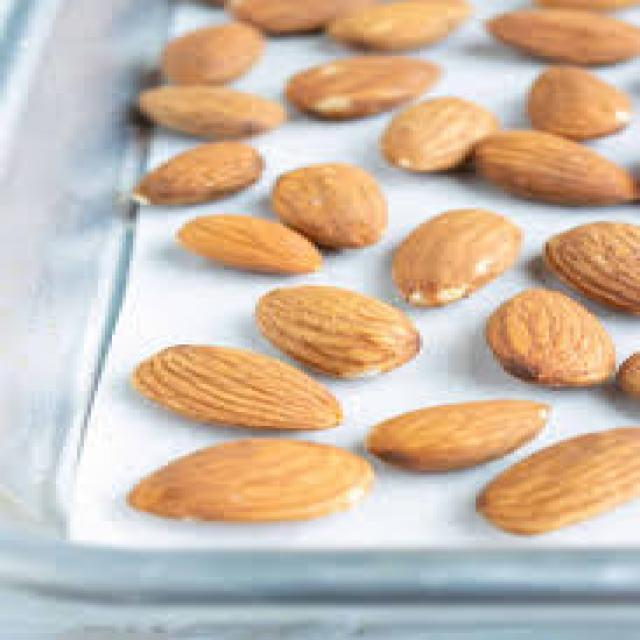almond: (125, 440, 377, 522), (125, 343, 350, 427), (478, 425, 640, 540), (255, 284, 427, 384), (471, 121, 640, 206), (372, 397, 553, 475), (483, 288, 620, 390), (392, 210, 527, 305), (282, 53, 457, 120), (265, 160, 388, 245), (175, 210, 330, 275), (483, 6, 640, 66), (545, 217, 640, 315), (377, 95, 498, 168), (133, 85, 287, 142), (130, 143, 263, 207), (522, 70, 628, 137)
